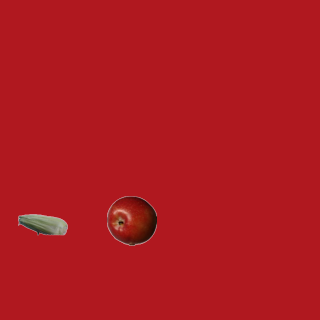Apple Braeburn: (106, 195, 156, 245)
Corn Husk: (17, 199, 67, 249)
